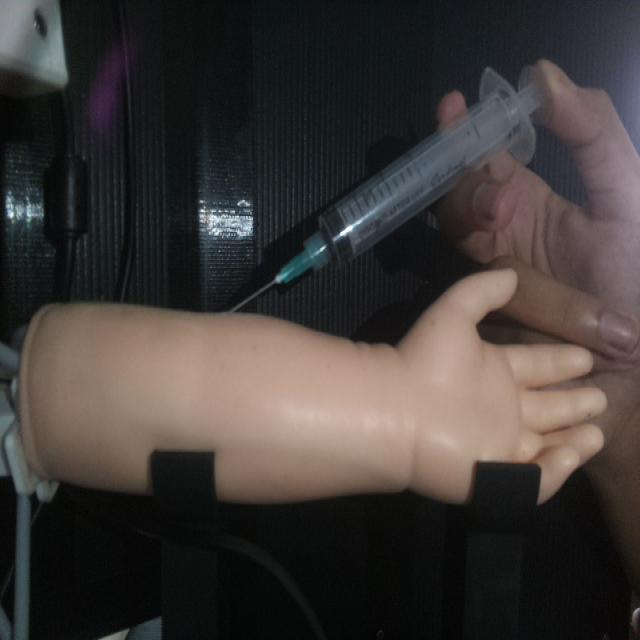Outside: (223, 61, 552, 315)
